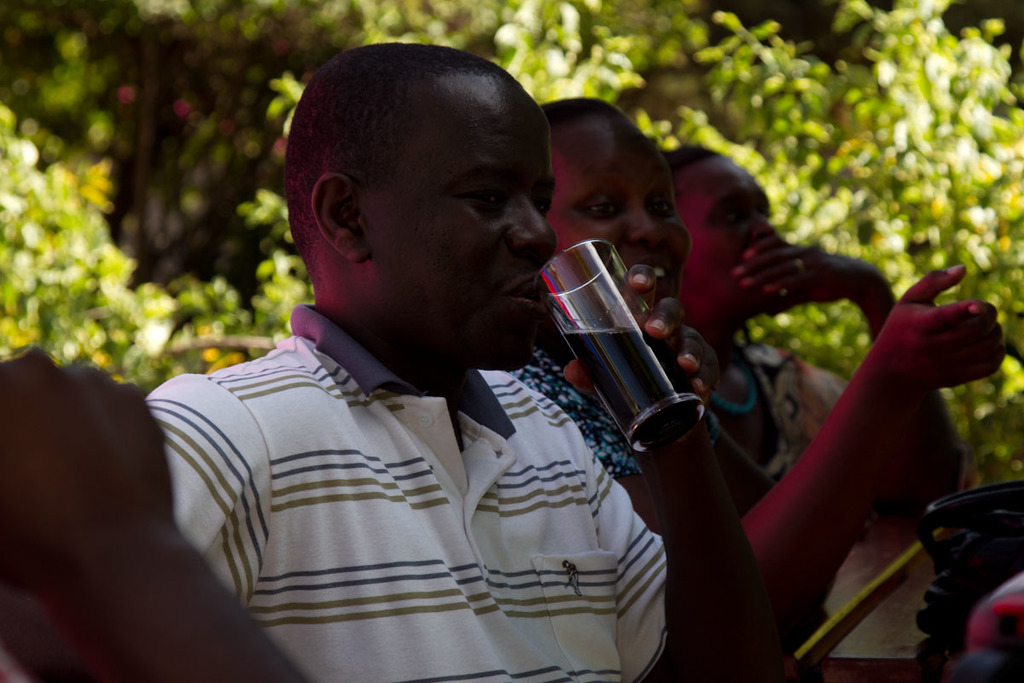Human_hand: (0, 347, 178, 604), (561, 265, 723, 478), (844, 247, 1009, 423), (730, 234, 855, 319)
